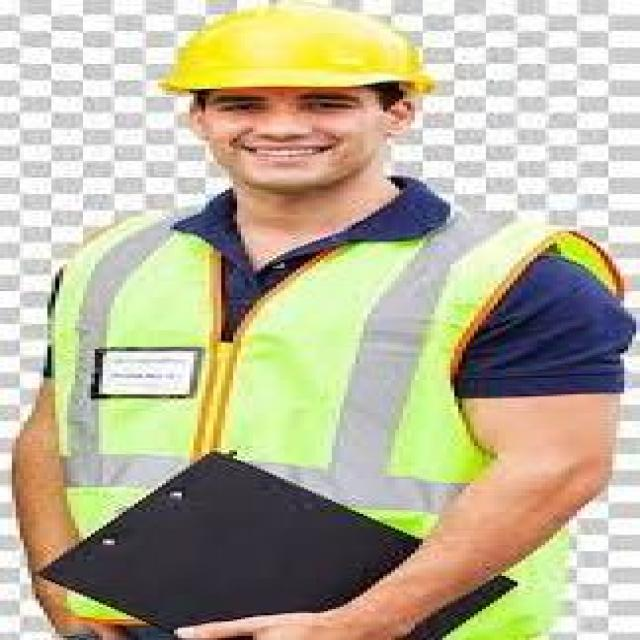Reflective-Jacket: (20, 190, 636, 611)
Safety-Helmet: (138, 0, 454, 105)
